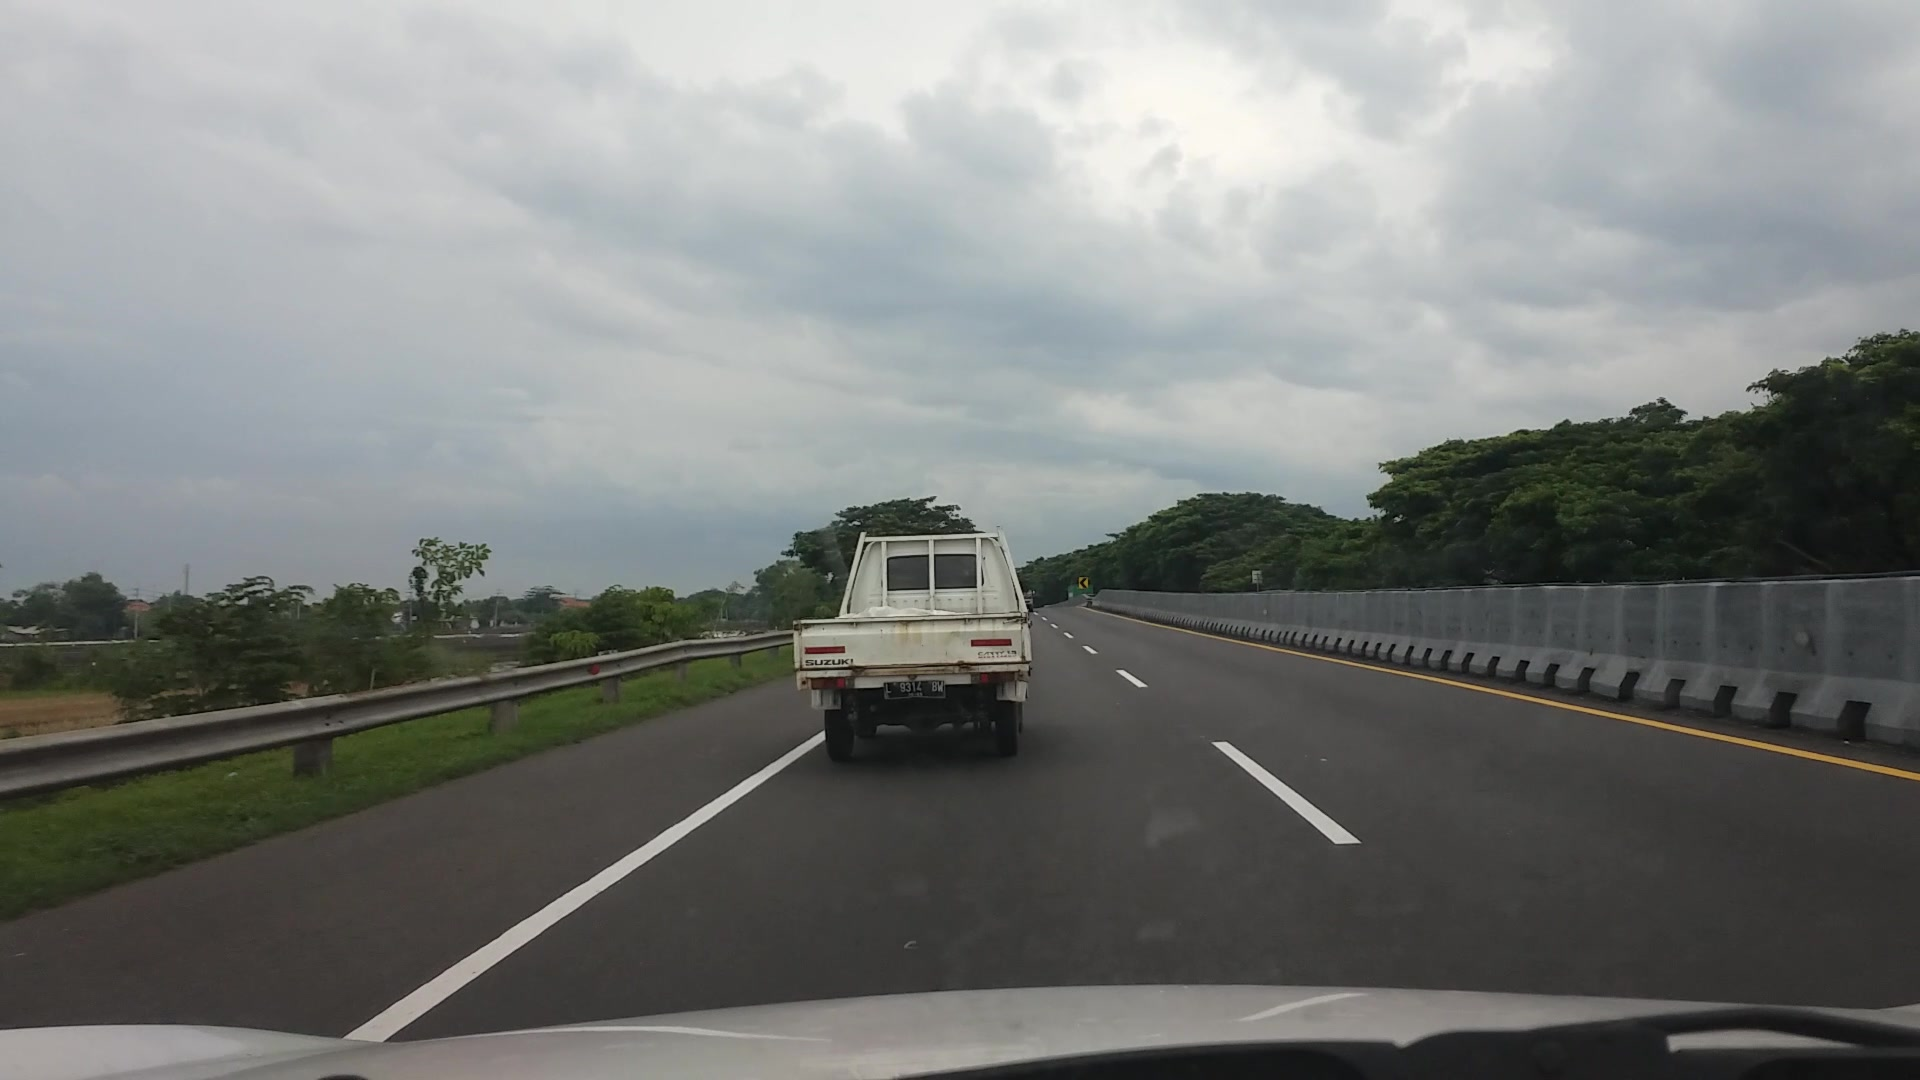plate_positive: (884, 680, 944, 700)
